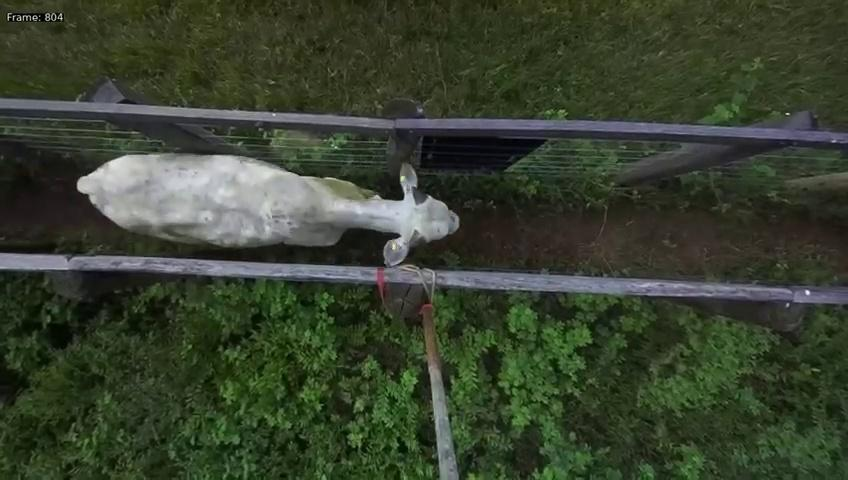cattle: (78, 131, 461, 265)
